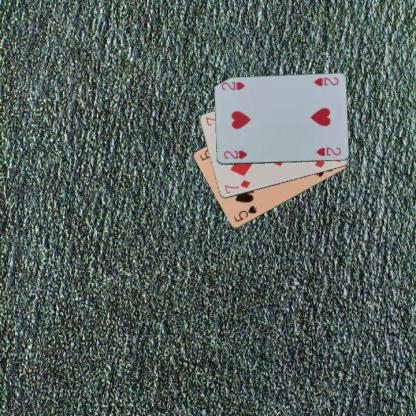2h: (311, 75, 340, 87), (221, 148, 248, 160)
5s: (231, 202, 258, 223)
7d: (222, 178, 251, 196)
